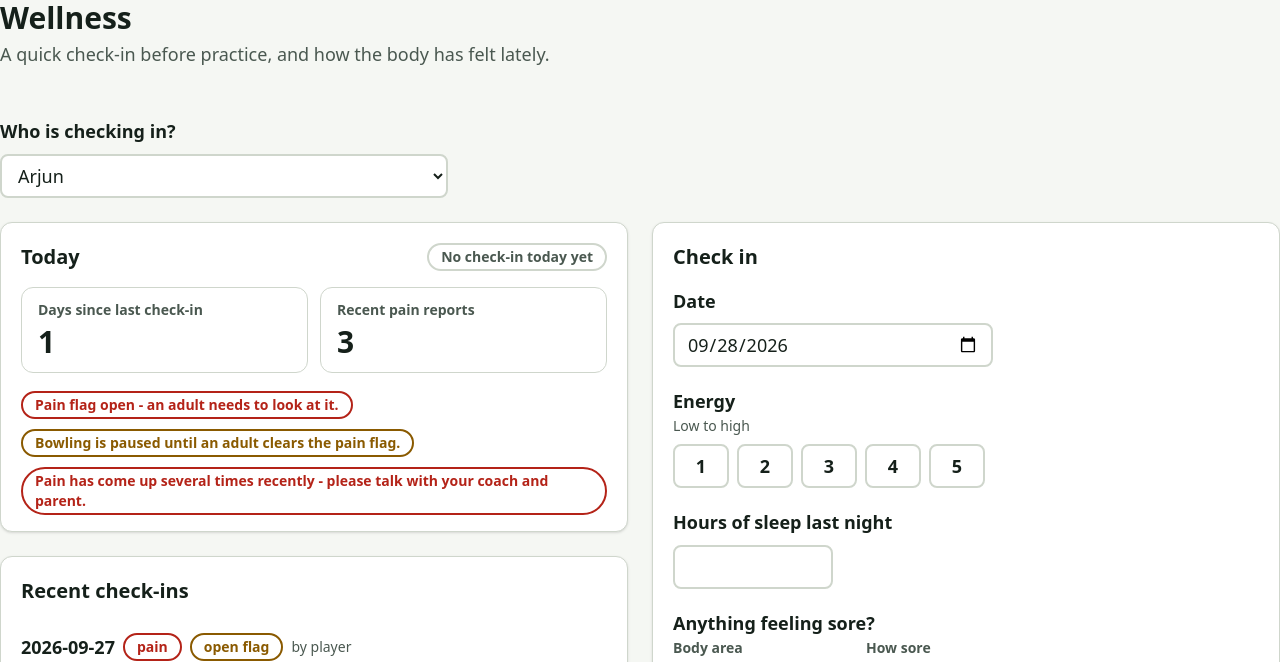
Scenario: check-in form › explains out-of-range values before posting
Expected: the list with test id "wellness-flags" is shown, [21,389,607,515]
Type "20" into the number field labelled "Hours of sleep last night".
click(753, 567); type("20")  # box [673,545,833,589]
(page scrolled)
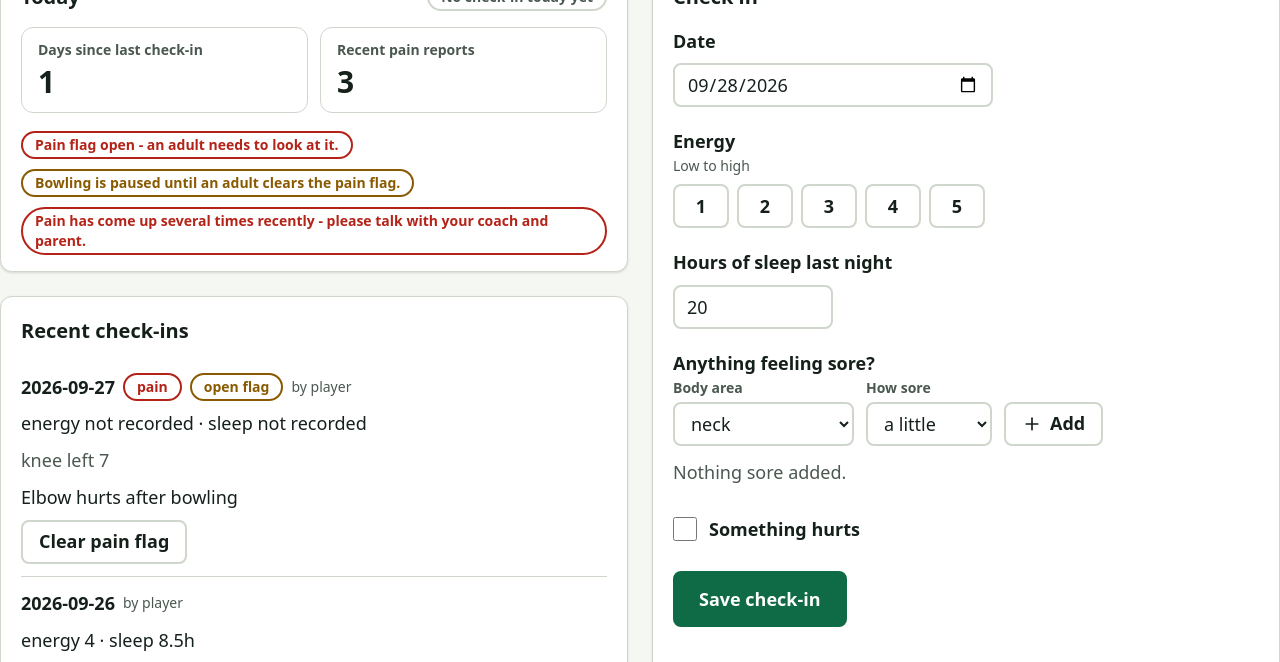
Click the button "Save check-in".
click(760, 599)  # box [673,571,847,627]
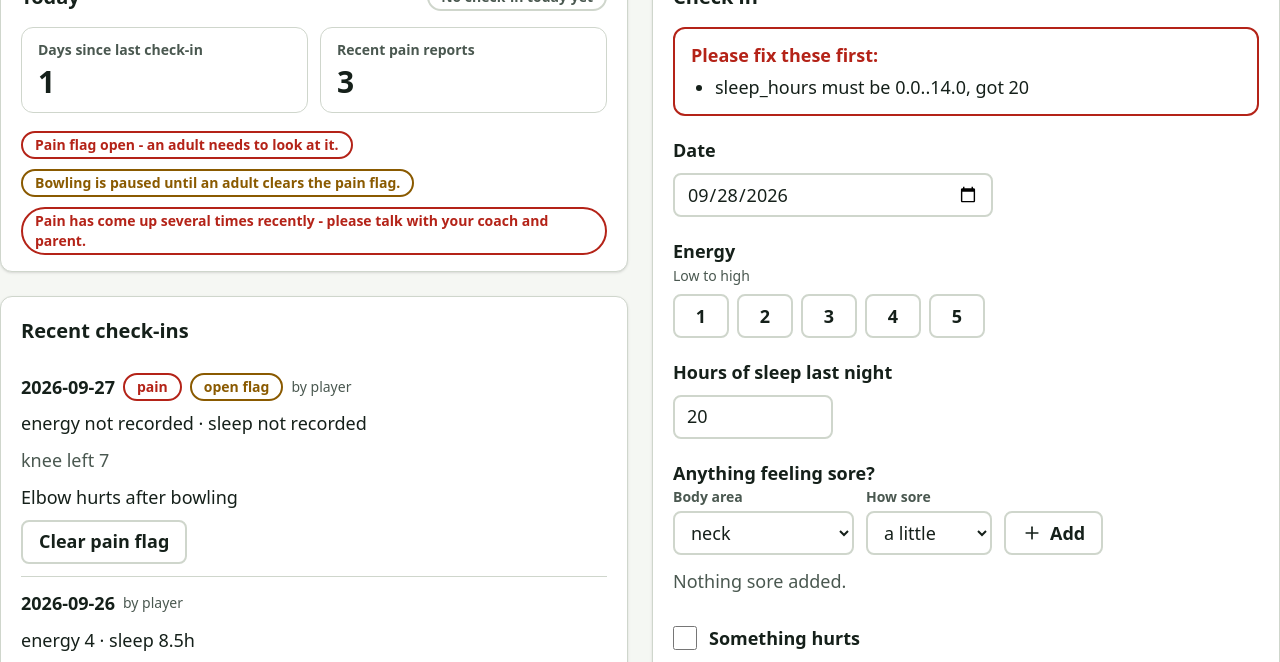
Expected: the list item "sleep_hours must be 0.0..14.0, got 20" is shown, [715,75,1029,99]
